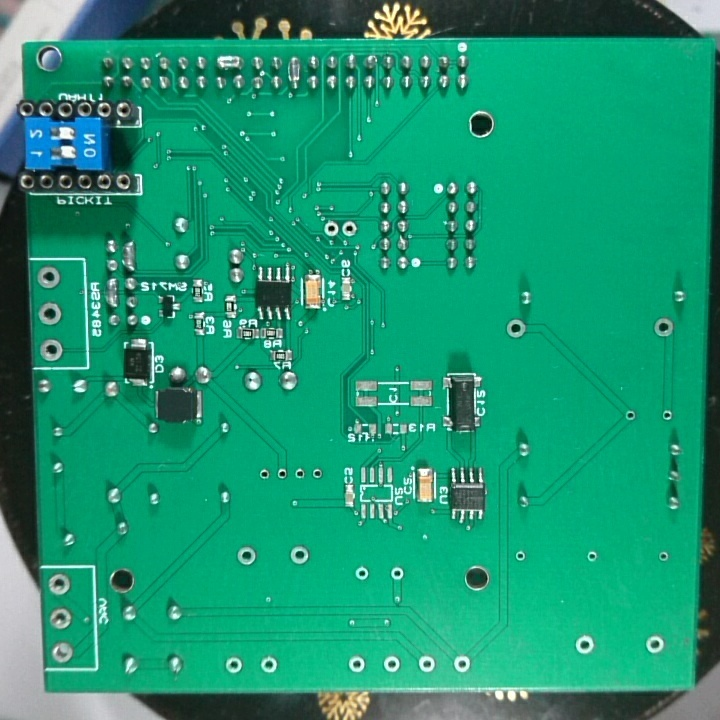F: (48, 605, 74, 635), (37, 337, 66, 363), (36, 263, 61, 293), (49, 638, 77, 664), (37, 300, 62, 329), (48, 571, 72, 600), (652, 314, 677, 341), (642, 633, 668, 658), (234, 544, 259, 570), (286, 544, 312, 567), (504, 317, 529, 340), (222, 653, 245, 678), (574, 632, 596, 658), (416, 652, 437, 677), (450, 653, 472, 676), (259, 652, 279, 677), (351, 563, 372, 586), (382, 652, 401, 677), (345, 654, 366, 676), (339, 218, 359, 241), (582, 546, 602, 566), (387, 563, 406, 583), (322, 218, 339, 240), (623, 405, 639, 426), (274, 466, 291, 485), (659, 405, 674, 425), (654, 548, 669, 566), (511, 548, 529, 563), (292, 465, 307, 483), (310, 466, 325, 483), (257, 466, 271, 484)
P: (120, 238, 138, 275), (212, 53, 246, 72), (285, 53, 301, 91), (102, 275, 119, 310)
